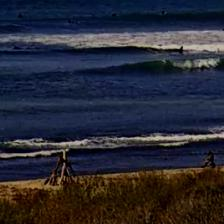surfer: (68, 19, 80, 25), (12, 46, 24, 51), (178, 46, 185, 54), (161, 10, 167, 16), (111, 12, 117, 18), (17, 13, 23, 19)
